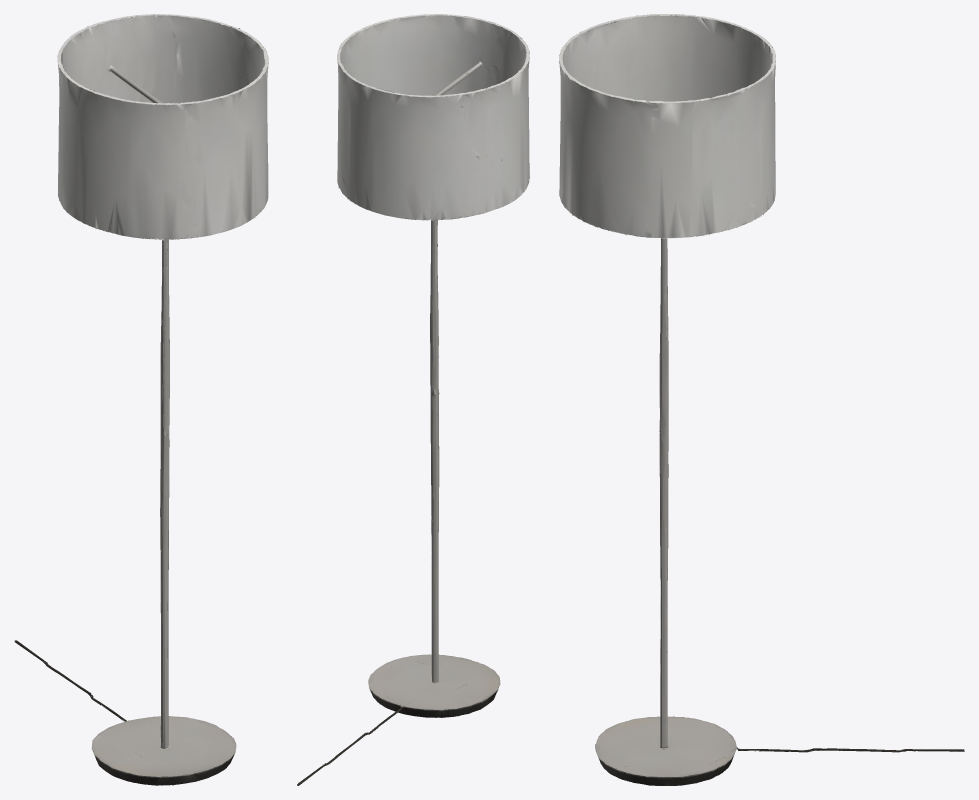
Rendered from ikea-ringsta-skaftet-floor-lamp-white-nickel-plated-59387448.glb.
3 renders of one model, left to right at view 1: azimuth 30°, elevation 25°; view 2: azimuth 150°, elevation 25°; view 3: azimuth 270°, elevation 25°, orthographic. The views are drawn at different scales.
Visible parts, largest first — view 1: model; view 2: model; view 3: model.
Boxes of the visible parts, bbox=[...] form: model: bbox=[14, 14, 268, 785]; model: bbox=[297, 14, 530, 785]; model: bbox=[559, 14, 964, 785].
Size of the model in its own units: 0.5205 by 1.9 by 0.9999.
1 material, 1 textured.
